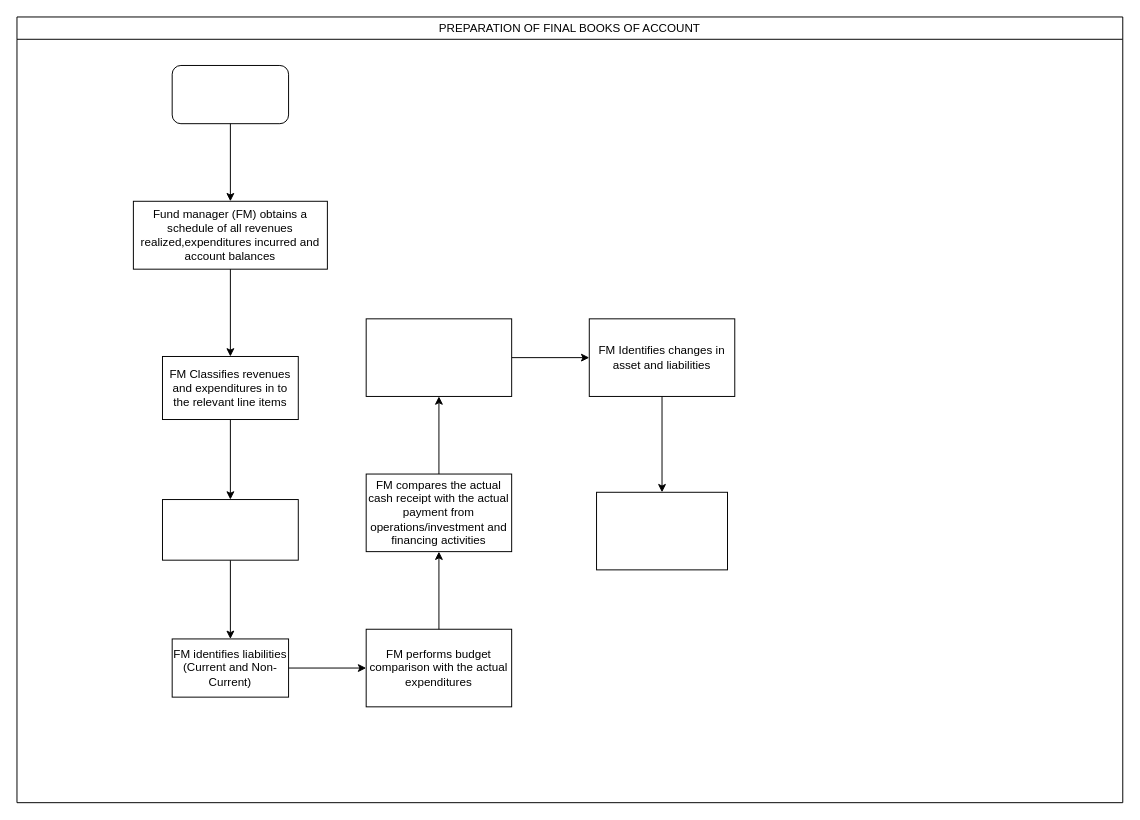
Some shapes in this 1140 by 820 pixel diagram are drawn without their labels. The shapes that lost their labels are listed below. From the top down, each one's centre as x and y in pixels, then its label:
the point at 230,94: Start
the point at 438,357: FM gets the difference between cash in the beginning and cash at the end
the point at 230,529: FM identifies assets ( current and non-current)
the point at 662,530: Compile and forward the draft financial reportto the CEO for consideration
